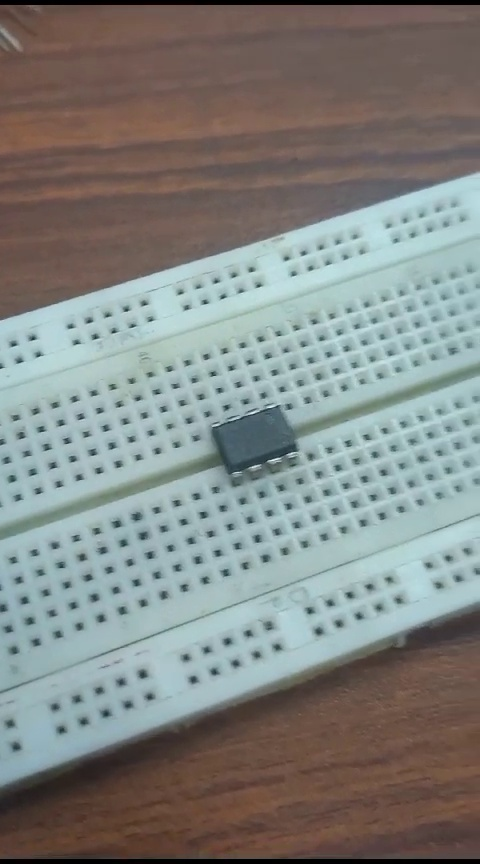IC: (204, 409, 305, 487)
